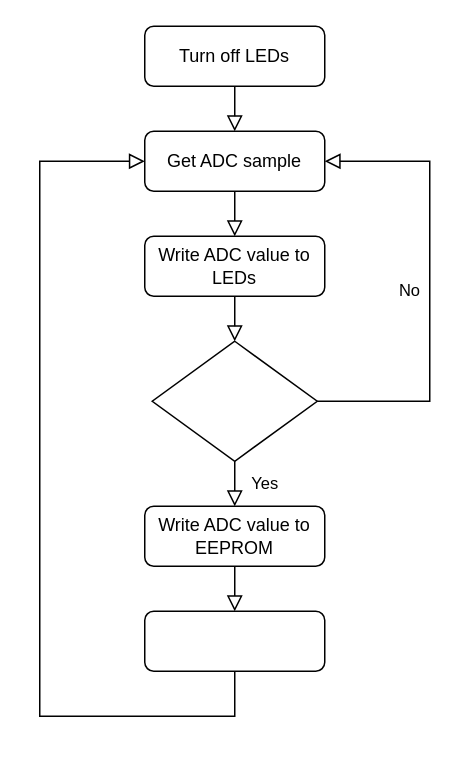
The diagram is 471 pixels wide and 758 high, and some of its shapes have lost their labels. The centre of each missing label's shape, as x and y in pixels:
"Is Switch 2 pressed?" goes at (x=234, y=400).
"Print EEPROM contents" goes at (x=234, y=640).
